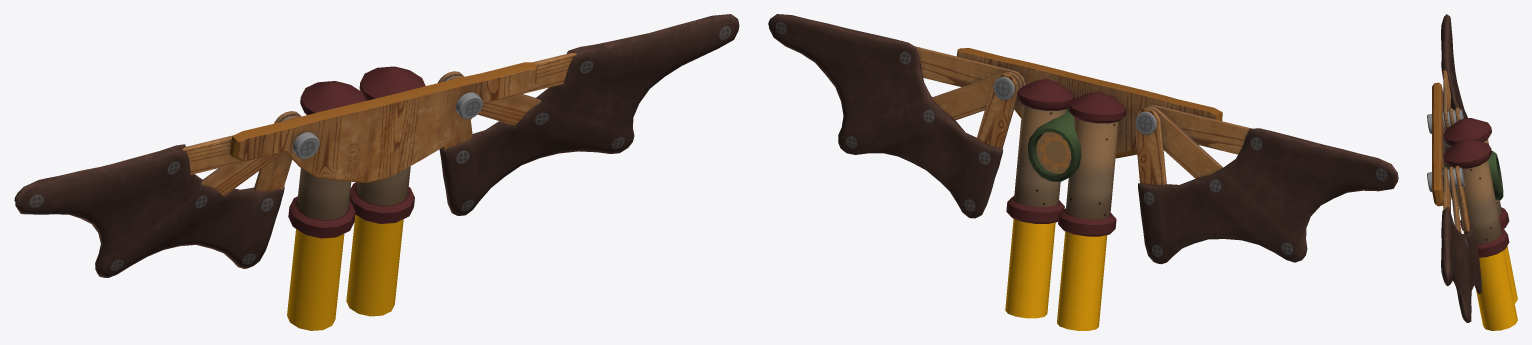
File: Glider_Divinci.fbx
3 views of the same model, side by side, from view 1: azimuth 30°, elevation 25°; view 2: azimuth 150°, elevation 25°; view 3: azimuth 270°, elevation 25° (orthographic). The views are drawn at different scales.
Parts seen in each view (by area): view 1: Glider_Divinci, Thruster01, Thruster02; view 2: Glider_Divinci, Thruster02, Thruster01; view 3: Glider_Divinci, Thruster01, Thruster02.
Part boxes in pixels (x1,y1,x2,y2): Glider_Divinci: [14, 14, 739, 277]; Thruster01: [346, 214, 403, 316]; Thruster02: [287, 229, 344, 330]; Glider_Divinci: [768, 14, 1398, 264]; Thruster02: [1057, 231, 1107, 330]; Thruster01: [1005, 219, 1055, 318]; Glider_Divinci: [1427, 14, 1509, 322]; Thruster01: [1476, 250, 1517, 330]; Thruster02: [1503, 229, 1517, 303].
Size of the model in its own units: 2.75 by 0.4101 by 0.9237.
Materials: 2 (1 with a texture image).
